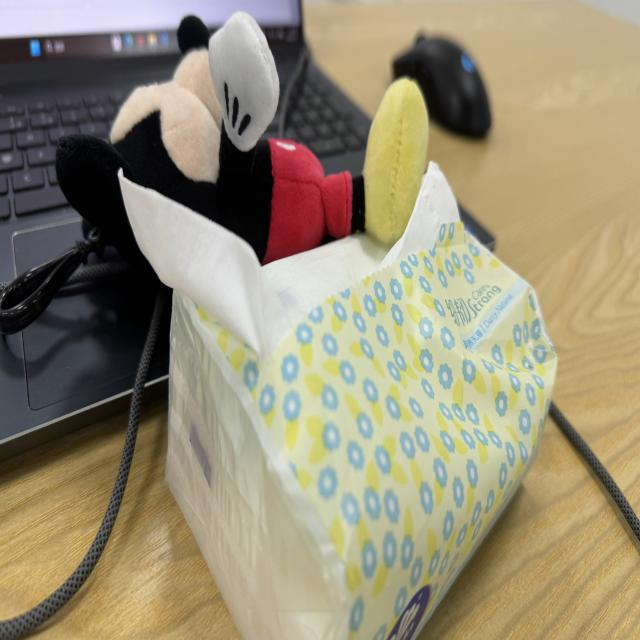mickey: (57, 13, 428, 269)
tissue: (118, 163, 558, 640)
